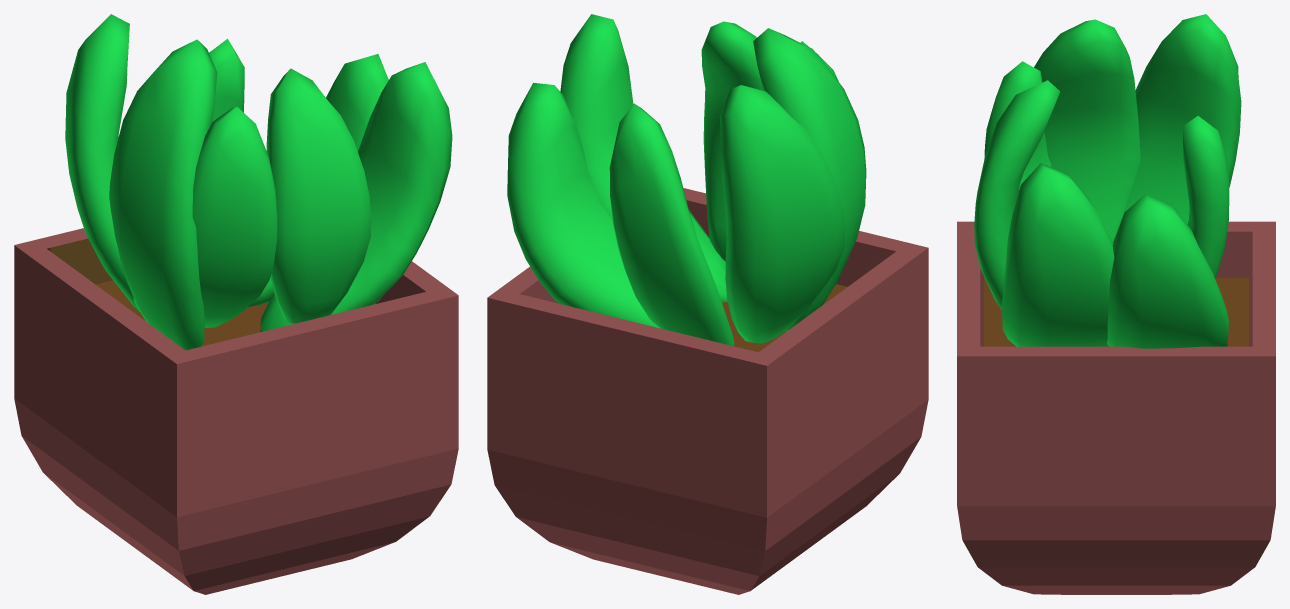
File: Pot 1.fbx
3 views of the same model, side by side, from view 1: azimuth 30°, elevation 25°; view 2: azimuth 150°, elevation 25°; view 3: azimuth 270°, elevation 25° (orthographic). The views are drawn at different scales.
Visible parts, largest first — view 1: Pot; view 2: Pot; view 3: Pot.
Part boxes in pixels (x1,y1,x2,y2): Pot: (14, 14, 458, 594); Pot: (487, 14, 928, 594); Pot: (957, 14, 1275, 594).
Bounding box in the file's own units: 85.81 × 141 × 76.48.
